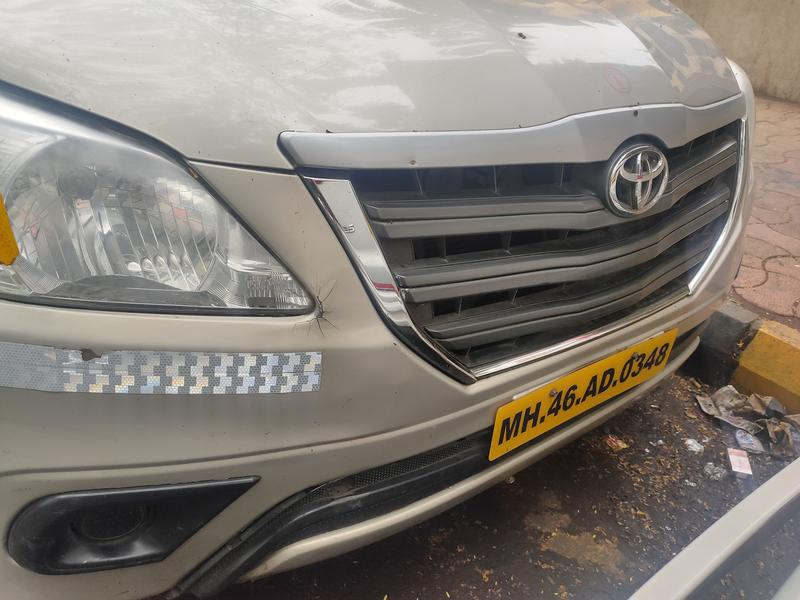license_plate: (474, 314, 677, 464)
